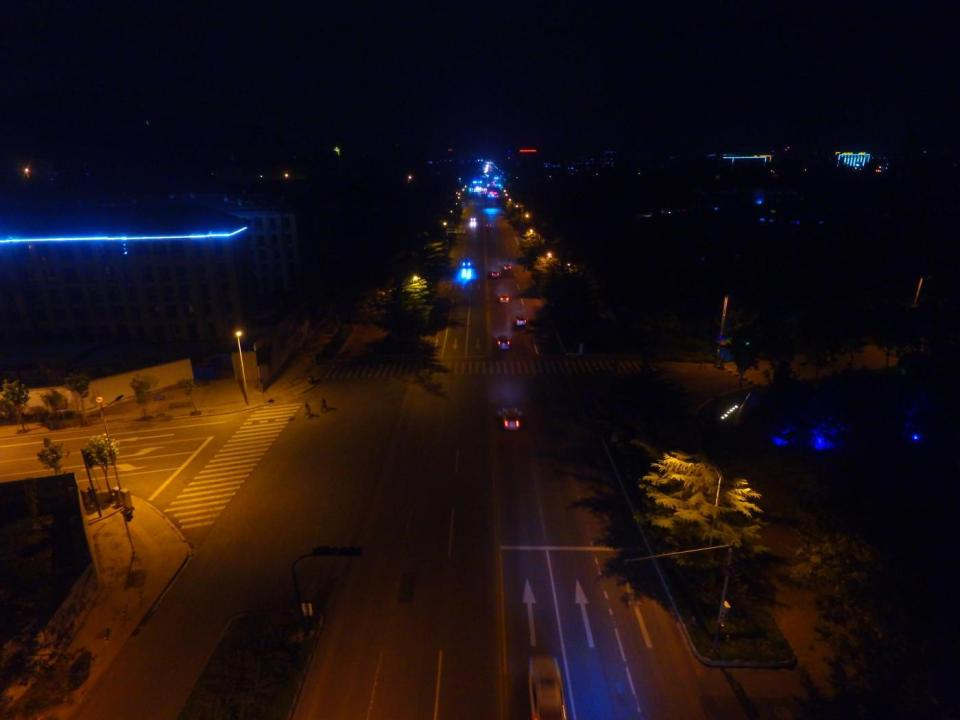car: (526, 648, 566, 717), (498, 407, 522, 429), (496, 334, 511, 352), (514, 315, 526, 328), (462, 260, 473, 271), (501, 261, 512, 271), (488, 269, 500, 278), (467, 214, 476, 225), (499, 294, 509, 303), (484, 220, 494, 229)
